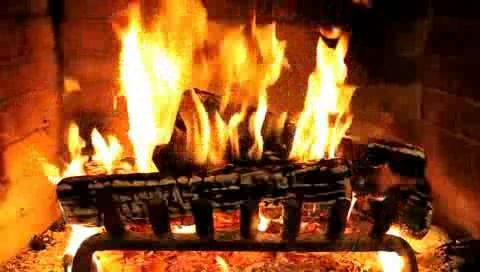fire: (109, 8, 346, 166)
